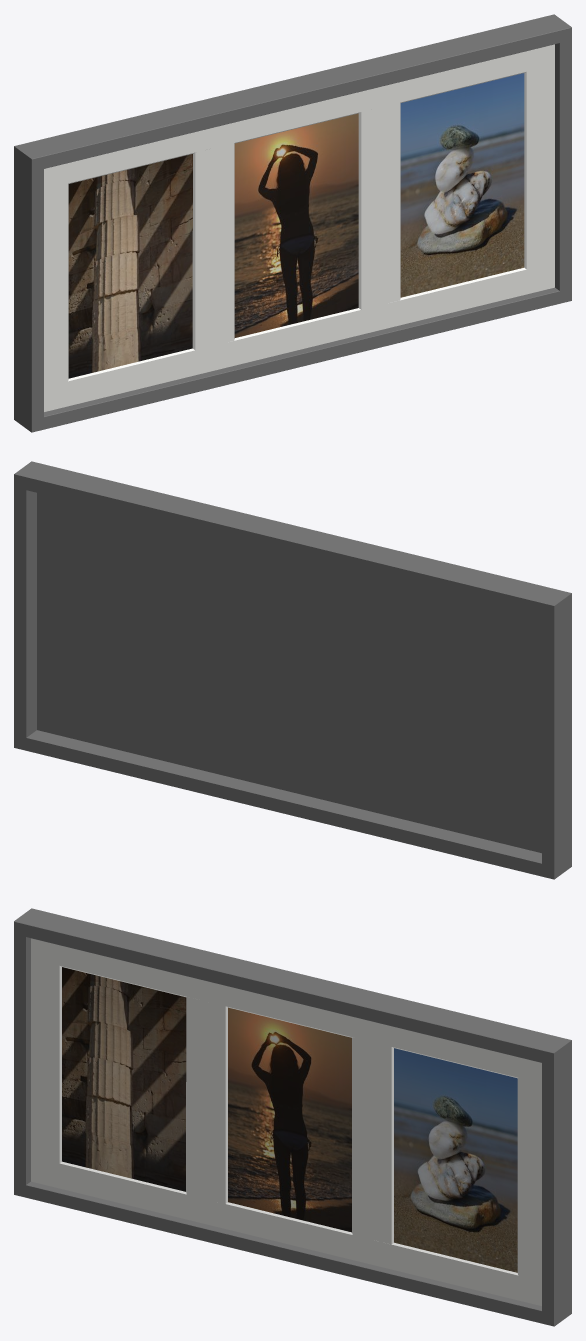
File: sweethome3d-contributions-frame-summer-photos.glb
The picture shows the model from 3 angles, top to bottom: view 1: azimuth 30°, elevation 25°; view 2: azimuth 150°, elevation 25°; view 3: azimuth 330°, elevation 25°; orthographic projection.
Parts seen in each view (by area): view 1: Inner_frame_Cube.003, Frame_Cube.001, Photo3_Plane.002, Photo1_Plane.001, Photo2_Plane; view 2: Frame_Cube.001; view 3: Inner_frame_Cube.003, Frame_Cube.001, Photo1_Plane.001, Photo3_Plane.002, Photo2_Plane.
Boxes of the visible parts, left/top/right/bottom form: Inner_frame_Cube.003: left=44, top=44, right=554, bottom=411; Frame_Cube.001: left=14, top=14, right=571, bottom=432; Photo3_Plane.002: left=400, top=73, right=524, bottom=297; Photo1_Plane.001: left=68, top=154, right=192, bottom=378; Photo2_Plane: left=234, top=113, right=358, bottom=337; Frame_Cube.001: left=14, top=461, right=571, bottom=879; Inner_frame_Cube.003: left=31, top=938, right=541, bottom=1305; Frame_Cube.001: left=14, top=908, right=571, bottom=1326; Photo1_Plane.001: left=62, top=967, right=186, bottom=1191; Photo3_Plane.002: left=394, top=1048, right=517, bottom=1272; Photo2_Plane: left=228, top=1007, right=351, bottom=1232.
Bounding box in the file's own units: 52.5 × 25.4 × 3.
5 materials, 3 textured.
